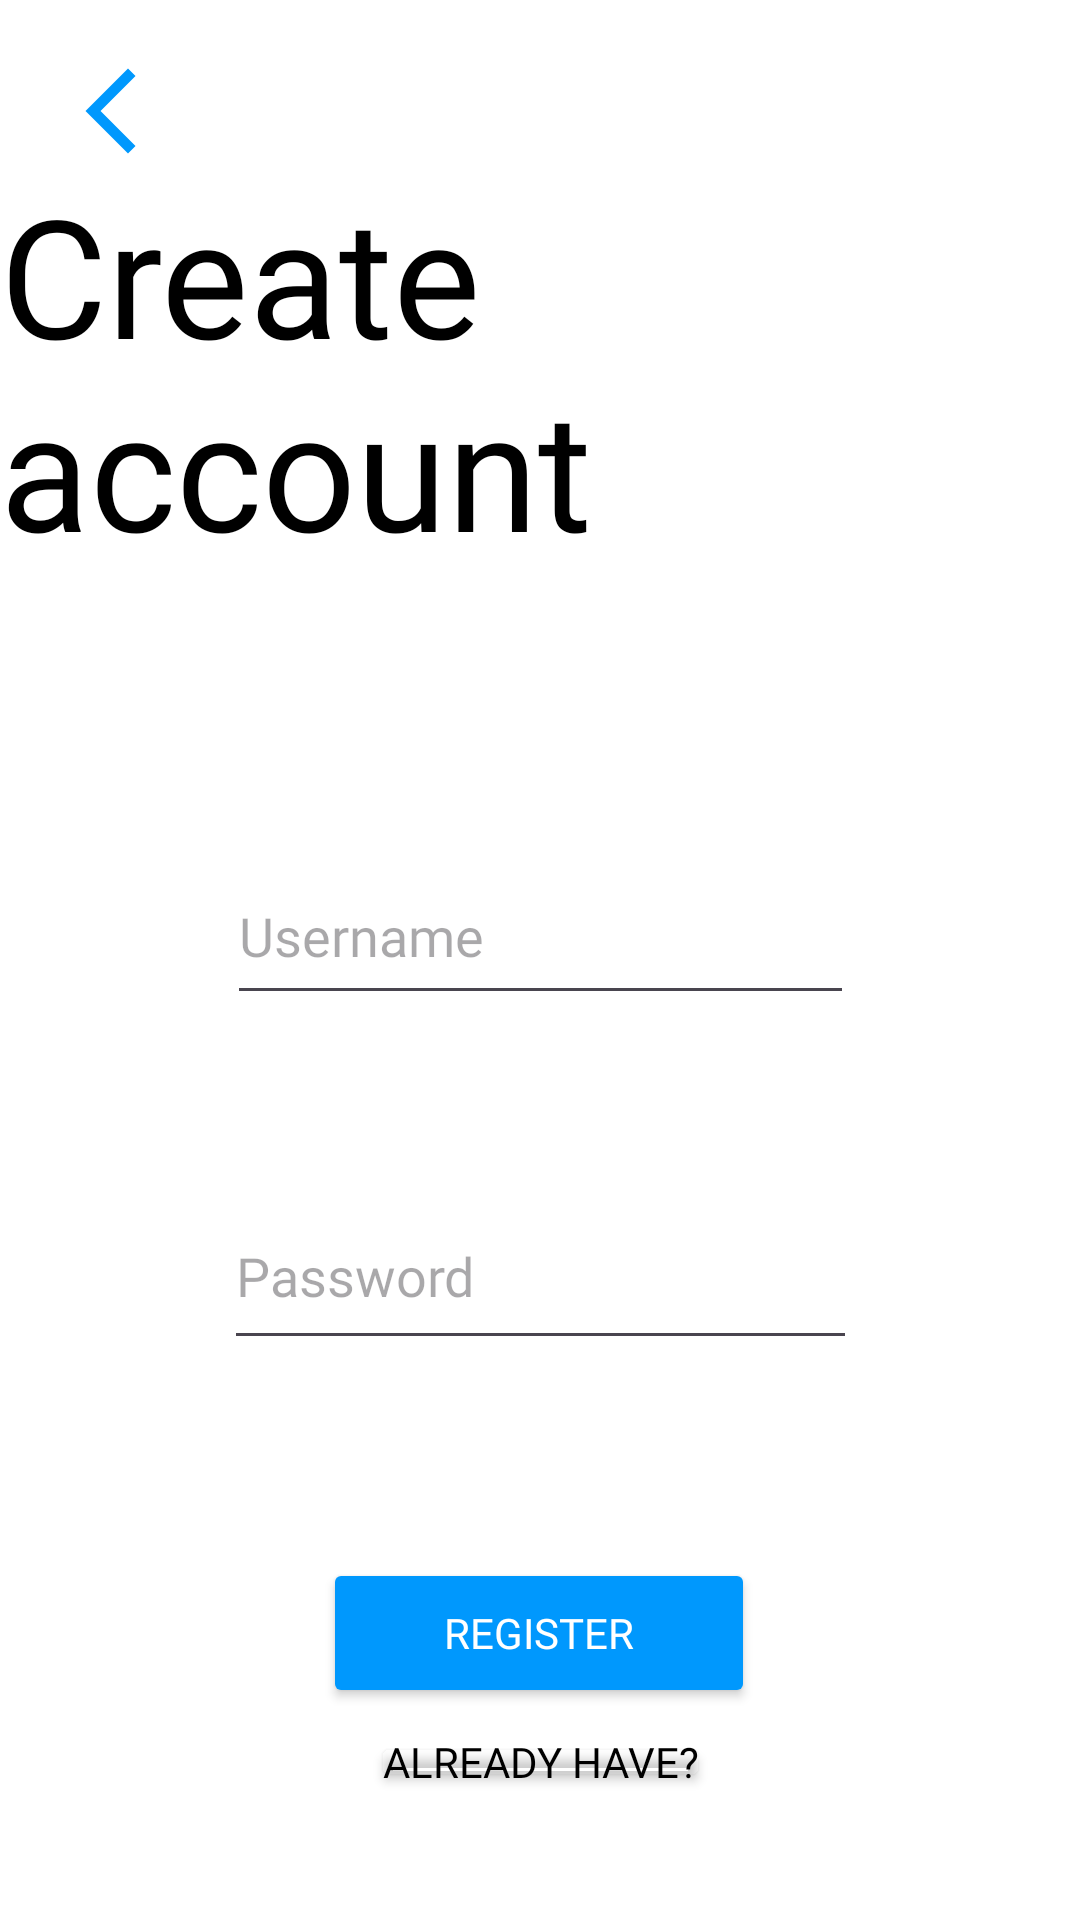

Where icons sit on this 1080 x 1920 app screen, as [x1, y1, x2, y2]:
back: [85, 68, 136, 154]
